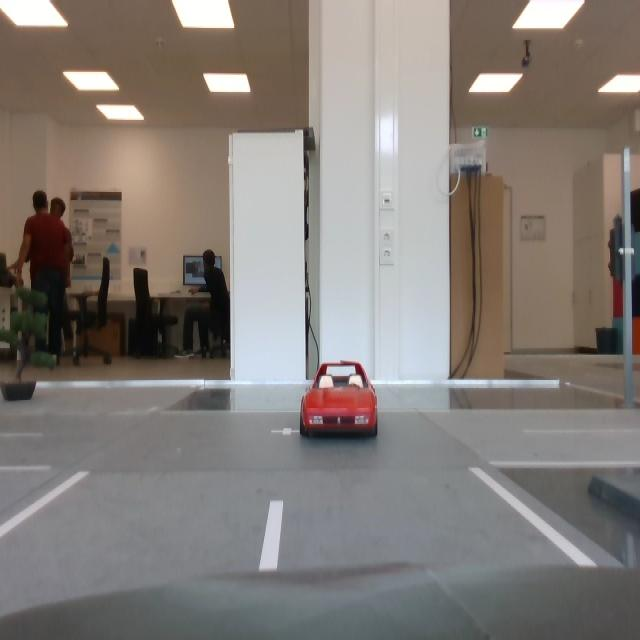car: (300, 360, 378, 438)
potted plant: (1, 282, 57, 401)
traffic light: (607, 217, 626, 284)
